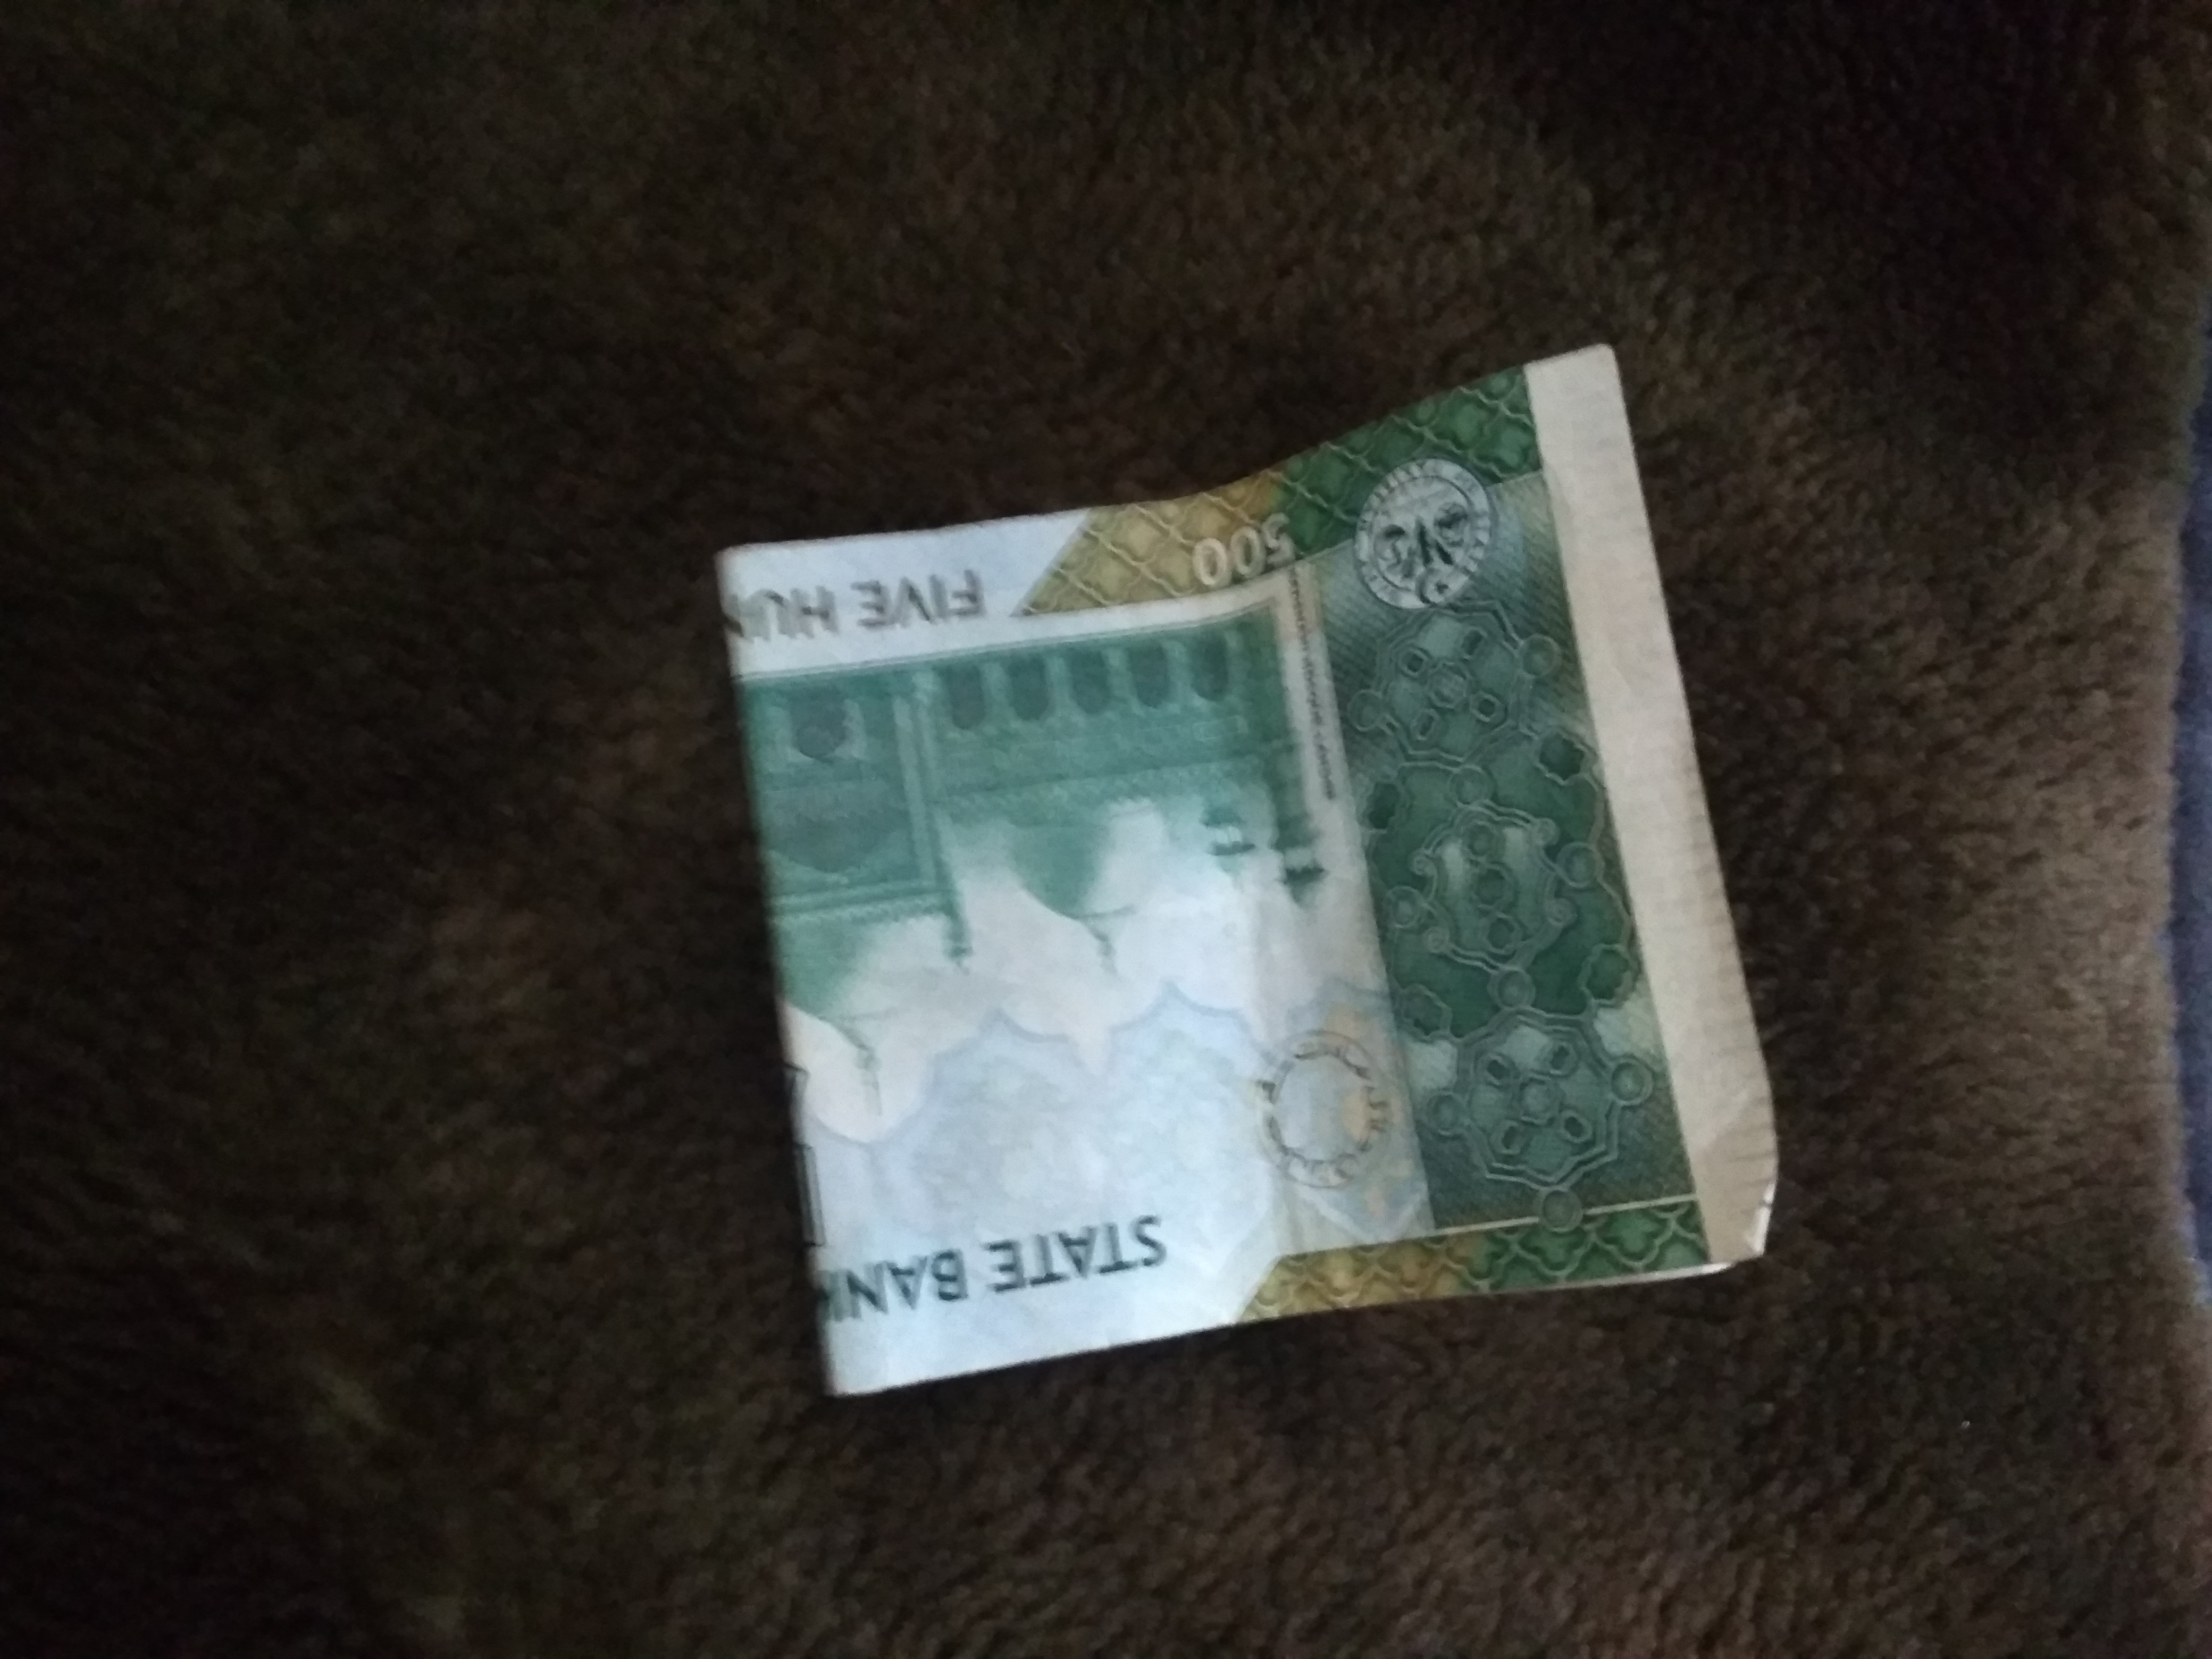500 rupee: (707, 354, 1855, 1466)
